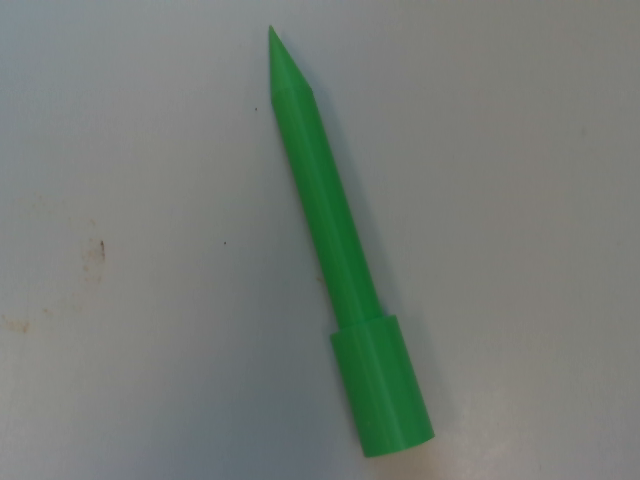Probe: (265, 15, 444, 465)
